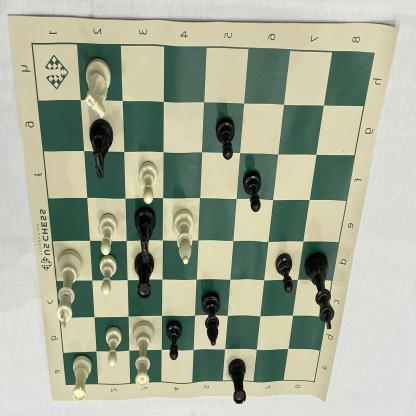black-bishop: (199, 285, 224, 350)
black-king: (301, 248, 338, 337)
black-knight: (88, 116, 116, 183), (130, 203, 159, 266)
black-pawn: (241, 166, 265, 218), (214, 114, 238, 163), (162, 318, 184, 364), (274, 252, 295, 296)
black-rook: (133, 245, 159, 302), (227, 353, 249, 406)
white-bishop: (169, 204, 196, 270)
white-king: (52, 244, 85, 337)
white-knight: (80, 54, 118, 121)
white-pawn: (134, 159, 161, 210), (95, 211, 121, 258), (94, 253, 118, 298), (103, 322, 125, 367)
white-queen: (132, 316, 157, 393)
white-rook: (68, 352, 94, 406)
